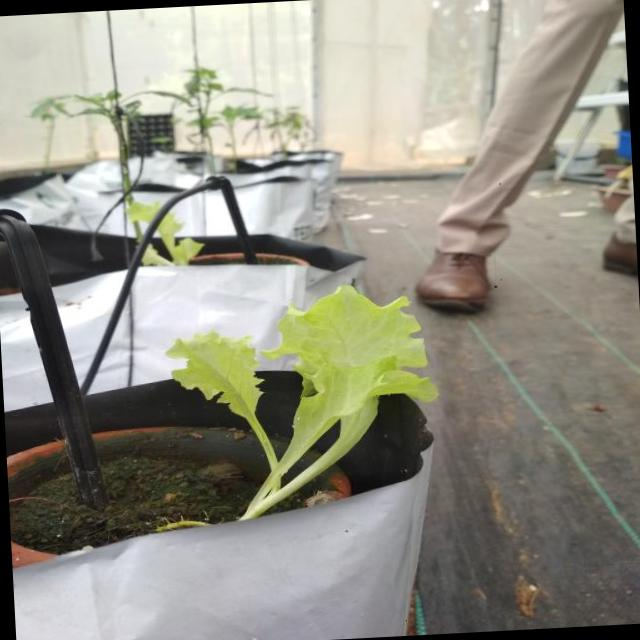Lettuce-Not-Ready-to-Harvest: (168, 286, 438, 518), (142, 213, 203, 265)
